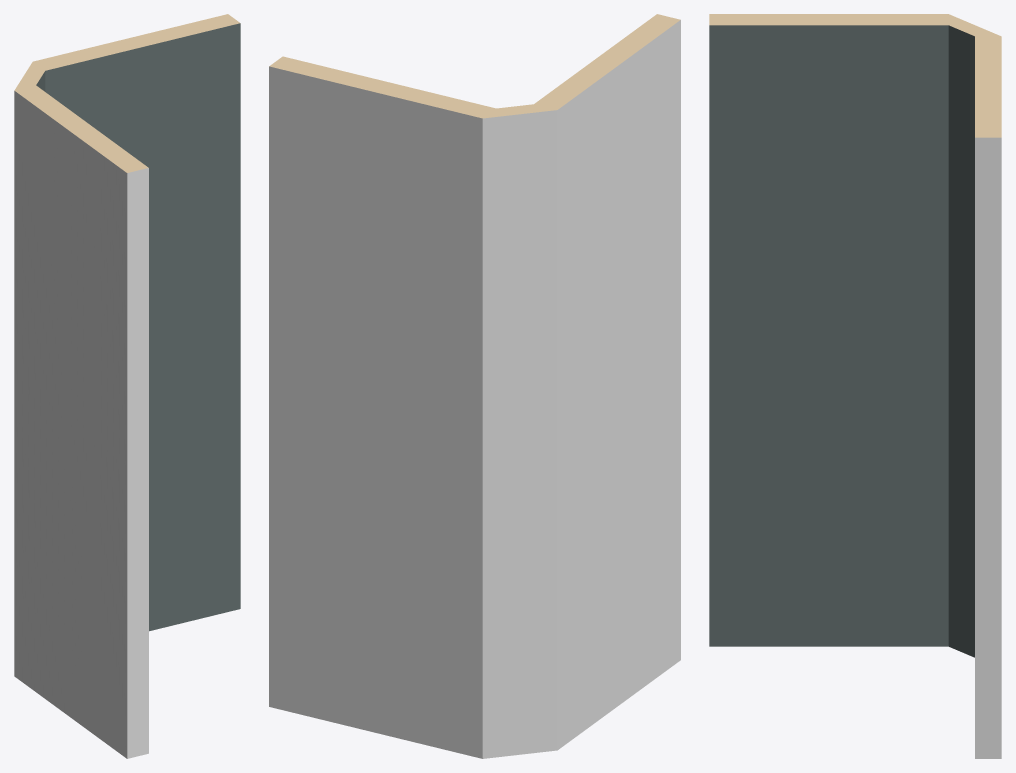
File: wallCorner.glb
3 renders of one model, left to right at view 1: azimuth 30°, elevation 25°; view 2: azimuth 150°, elevation 25°; view 3: azimuth 270°, elevation 25°, orthographic. The views are drawn at different scales.
Visible parts, largest first — view 1: wallCorner; view 2: wallCorner; view 3: wallCorner.
Part boxes in pixels (bbox=[...]): wallCorner: bbox=[14, 14, 240, 758]; wallCorner: bbox=[269, 14, 680, 758]; wallCorner: bbox=[709, 14, 1001, 758].
Bounding box in the file's own units: 5.5 × 12.9 × 5.5.
